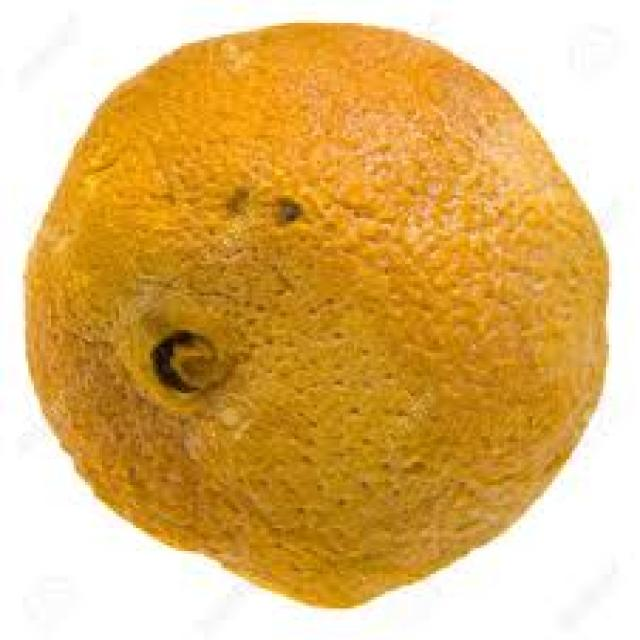overripe: (23, 13, 612, 617)
